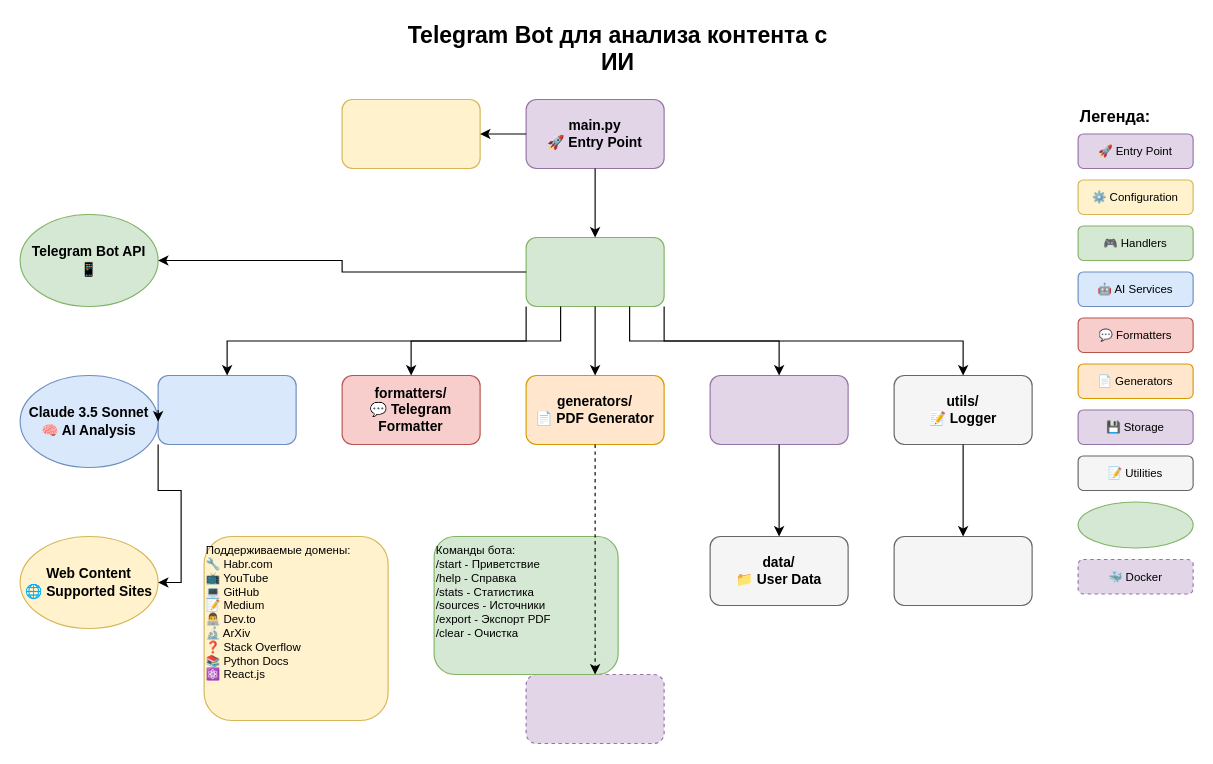
The diagram is 1213 pixels wide and 764 high, and some of its shapes have lost their labels. Each missing label, with the centre of its shape:
analyzers/ 🤖 Content Analyzer: (x=226, y=409)
config.py ⚙️ Configuration: (x=410, y=133)
Docker Container 🐳 Deployment: (x=594, y=708)
handlers/ 🎮 Bot Handlers: (x=594, y=271)
logs/ 📋 Application Logs: (x=962, y=570)
storage/ 💾 Stats Manager: (x=778, y=409)
🌐 External APIs: (x=1135, y=524)
